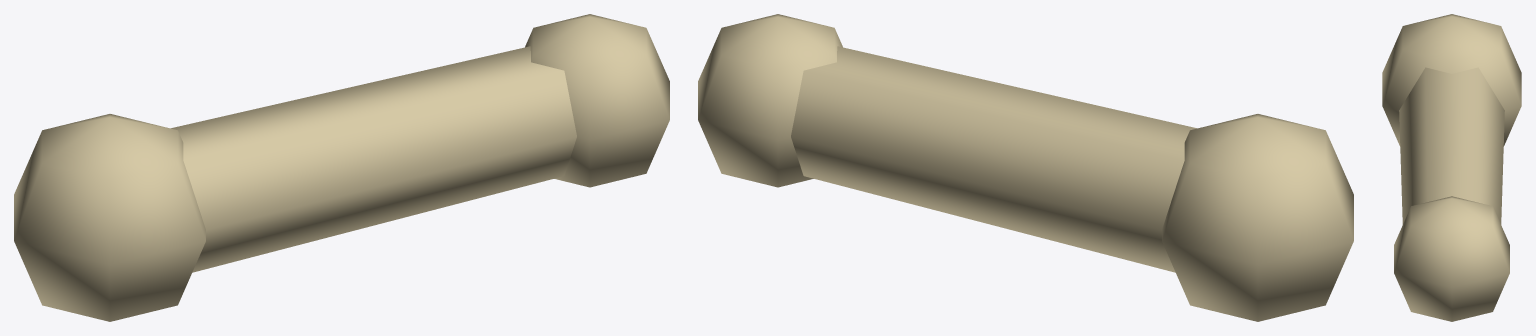
File: bone-scrap.glb
The picture shows the model from 3 angles, left to right: view 1: azimuth 30°, elevation 25°; view 2: azimuth 150°, elevation 25°; view 3: azimuth 270°, elevation 25°; orthographic projection. The views are drawn at different scales.
Size of the model in its own units: 0.205 by 0.06 by 0.052.
